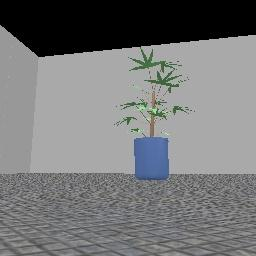planta: (115, 48, 192, 179)
